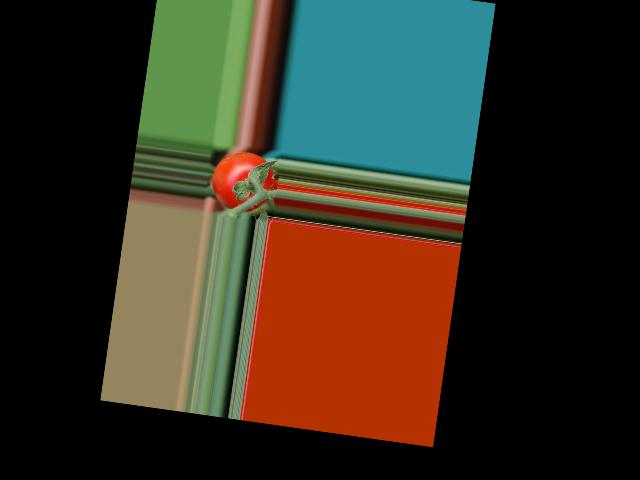tomato: (208, 147, 280, 216)
